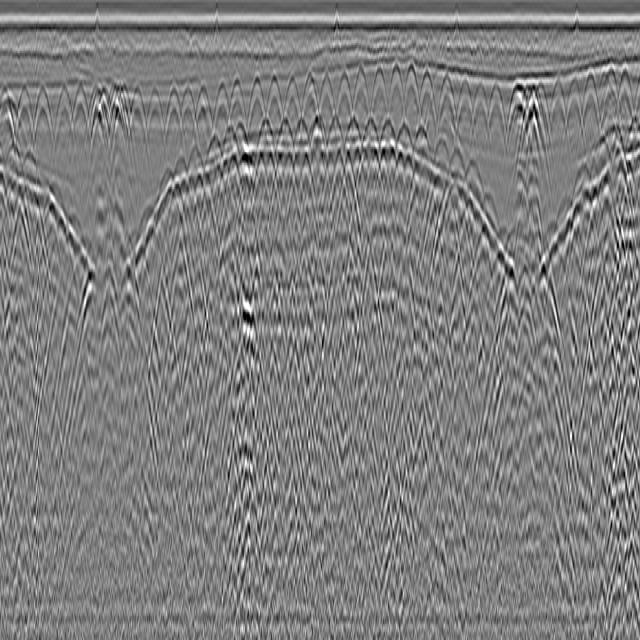hyperbola: (31, 80, 55, 174), (548, 71, 569, 171), (177, 61, 196, 166), (109, 71, 132, 156), (128, 68, 147, 168), (503, 68, 524, 158), (70, 65, 90, 158), (54, 71, 72, 171), (419, 48, 437, 146), (146, 68, 164, 161), (582, 55, 600, 148), (192, 68, 212, 150), (348, 49, 369, 125), (164, 68, 183, 150), (282, 58, 301, 138), (12, 87, 34, 156), (566, 68, 582, 161), (597, 55, 616, 133), (472, 64, 488, 156), (457, 55, 472, 153), (263, 61, 282, 138), (228, 55, 245, 140), (535, 68, 551, 158), (246, 68, 265, 143), (298, 68, 319, 135), (616, 68, 635, 140), (387, 55, 405, 128), (316, 68, 336, 132), (369, 55, 387, 125), (336, 61, 354, 130), (212, 74, 229, 146), (440, 58, 455, 138), (1, 80, 14, 168), (403, 52, 418, 127), (90, 78, 104, 156), (492, 78, 506, 156)
